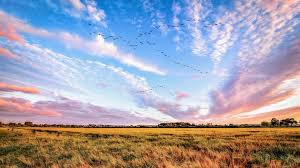field: (4, 126, 299, 166)
sky: (1, 2, 298, 122)
